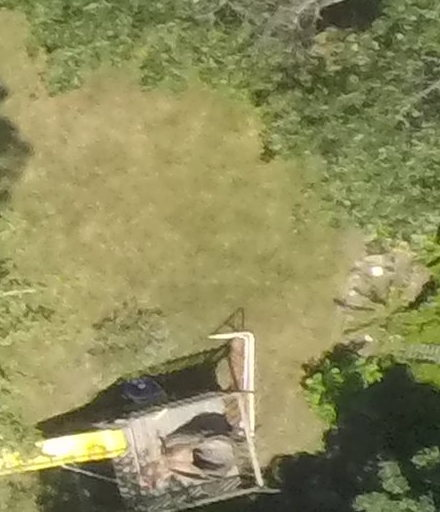container: (183, 419, 239, 490)
